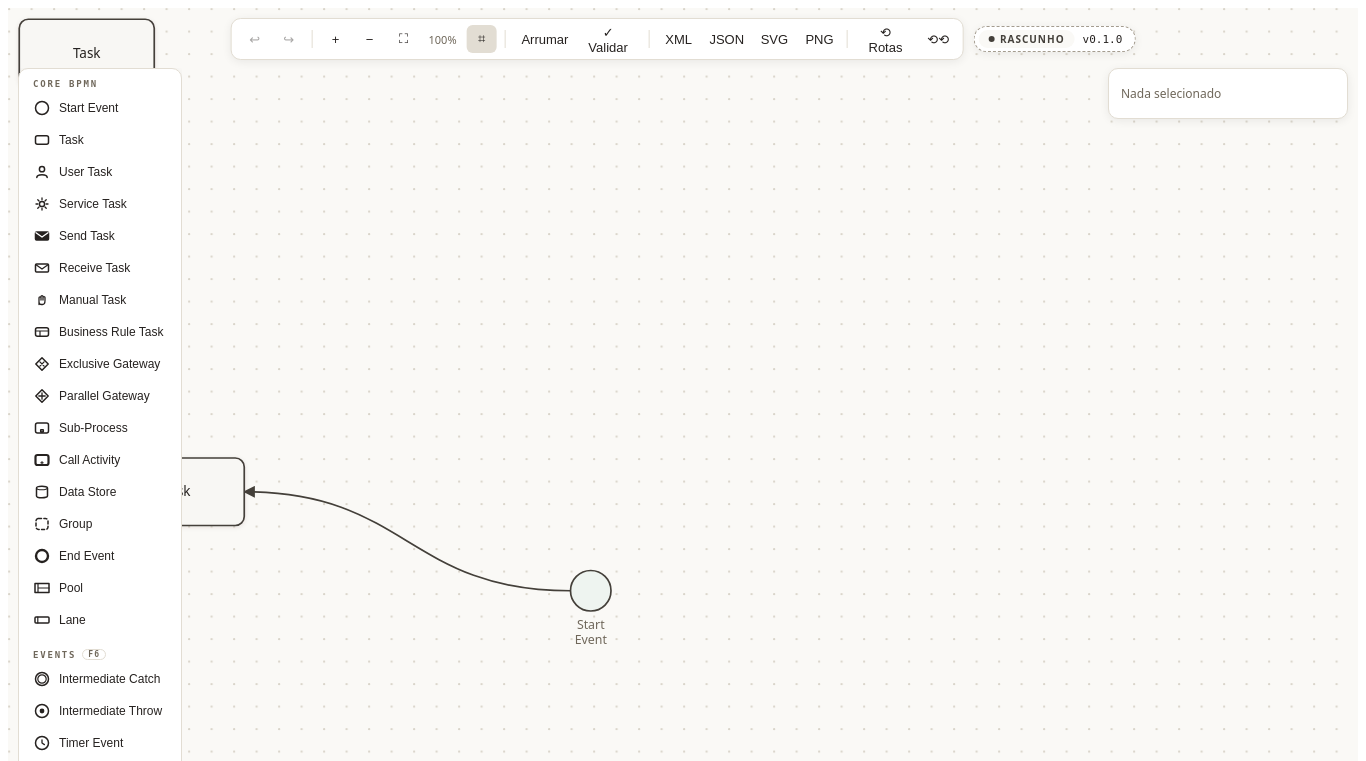
Test: layout proposal card (spec 1e) › Esc refuses via the dismissal stack
Step 1. Click the button with aria-label "Arrumar o diagrama automaticamente" → [543, 39], box x1=514 y1=25 x2=572 y2=53
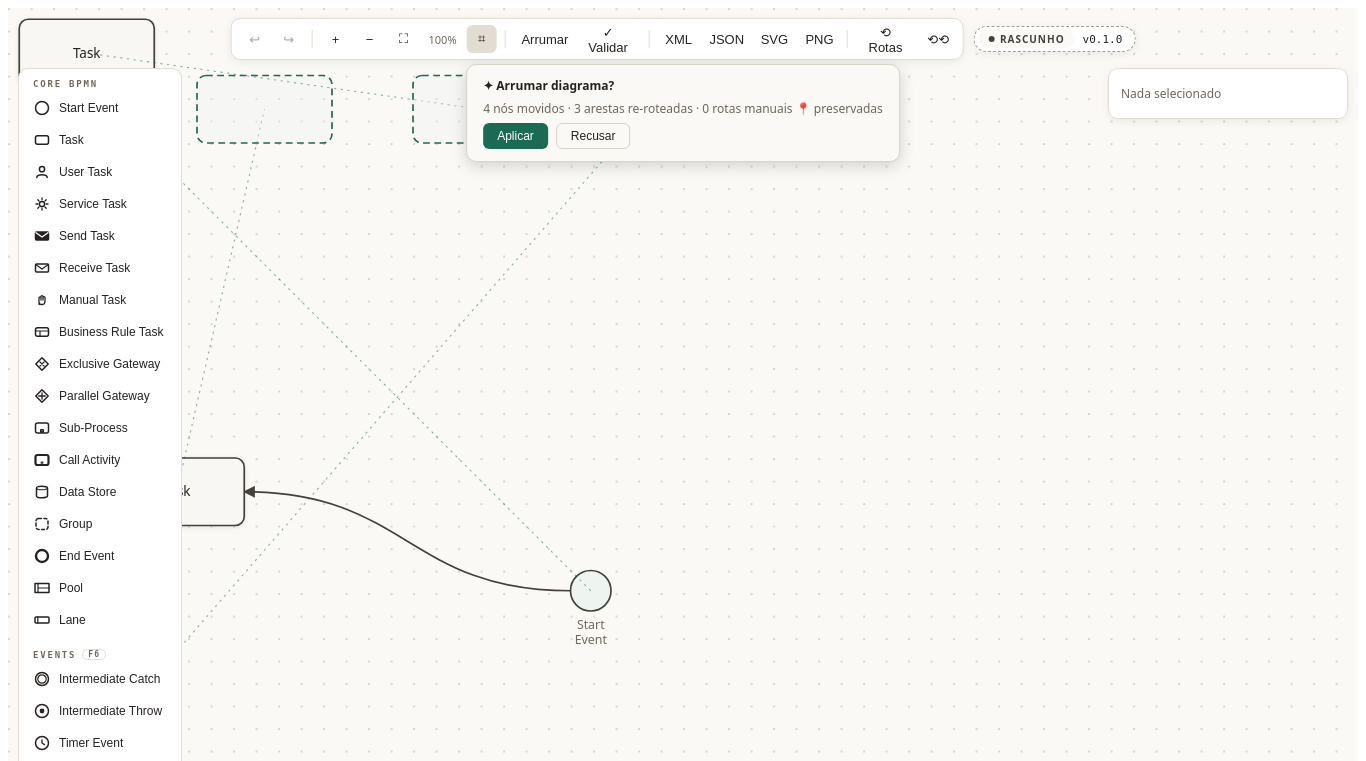
Step 2. Press Escape
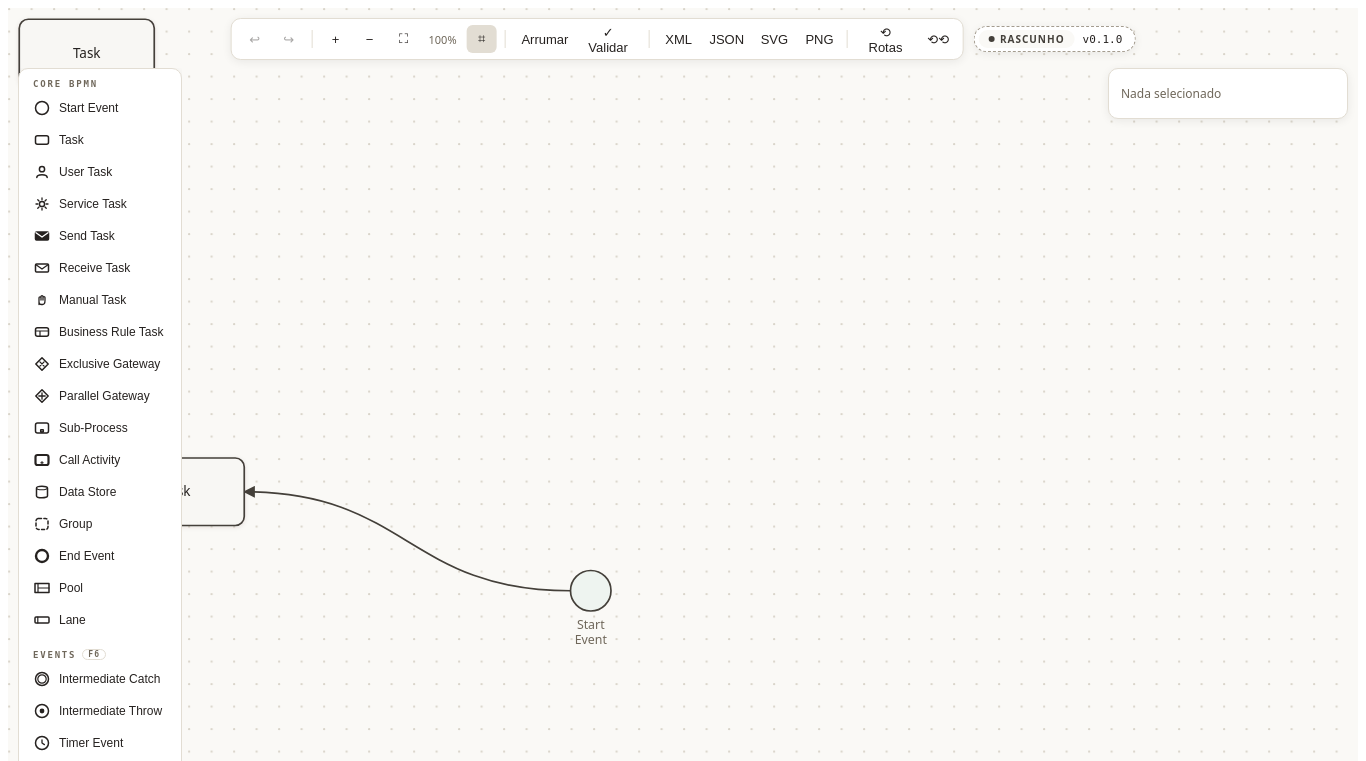
Expected: the dialog with test id "layout-proposal" is gone
